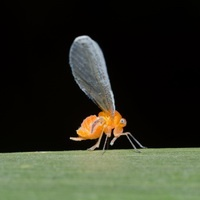insect: (69, 35, 144, 149)
